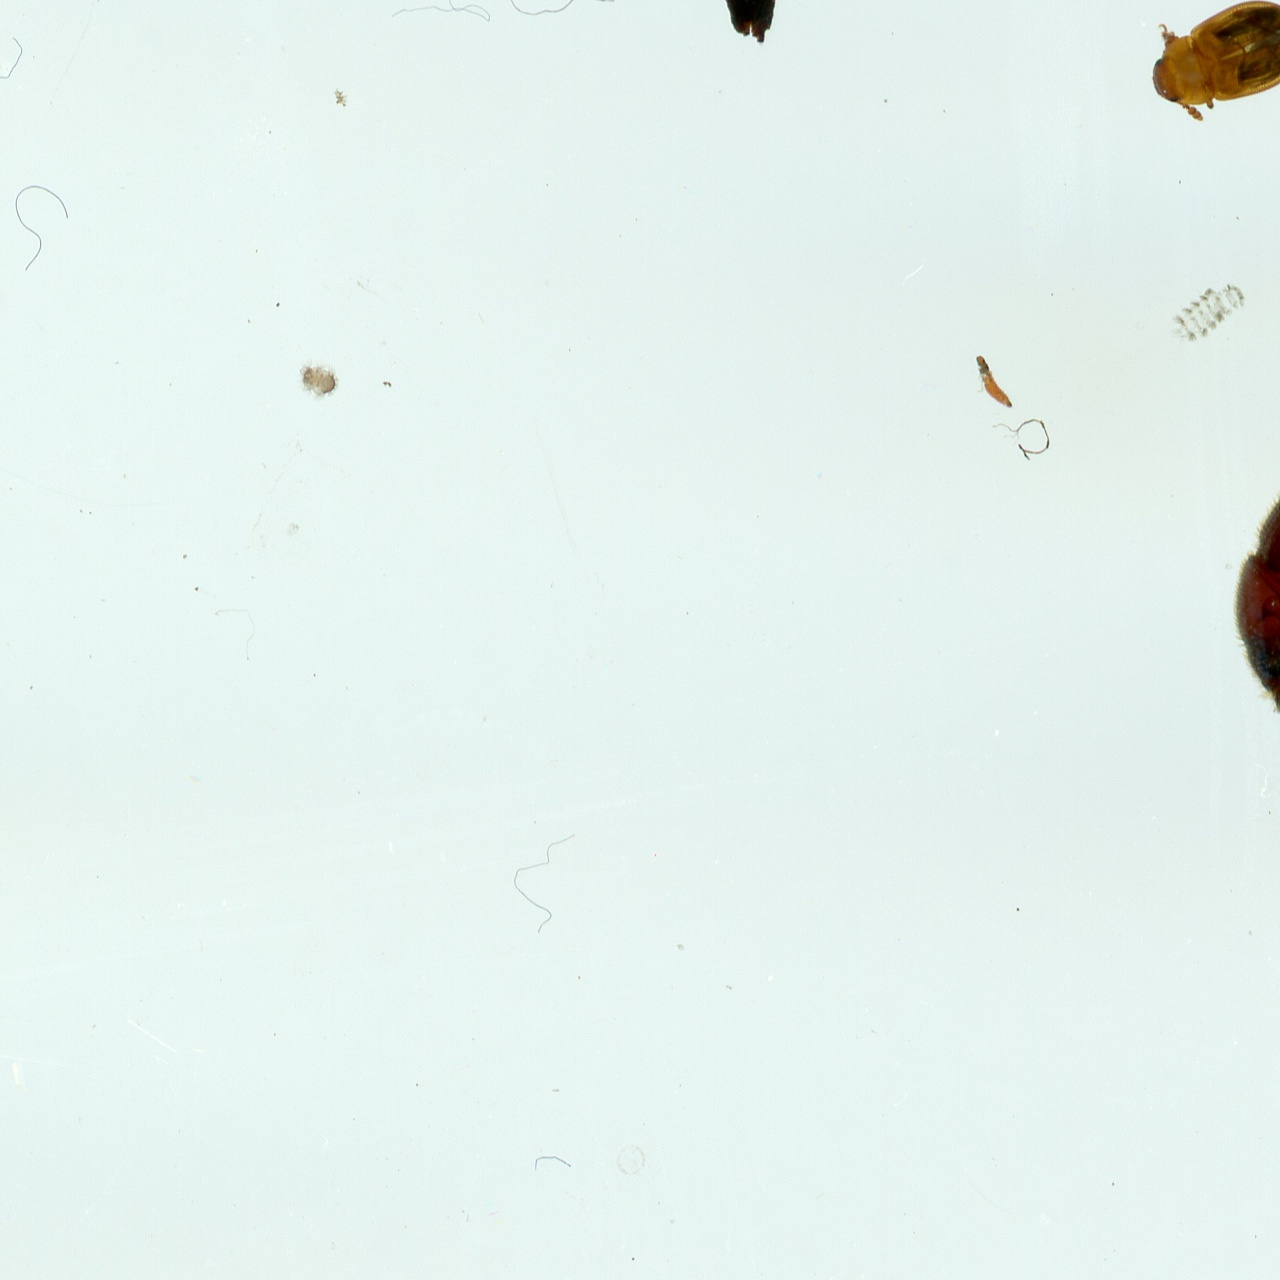arthropod: (1131, 0, 1280, 117), (1239, 346, 1280, 764)
